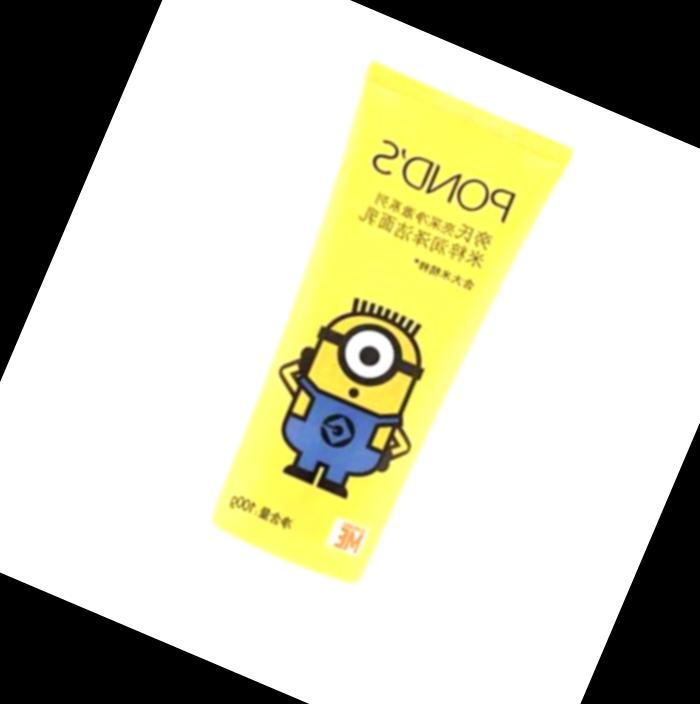cosmetic: (135, 59, 580, 692)
